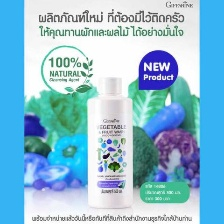insecticide: (83, 75, 135, 211)
